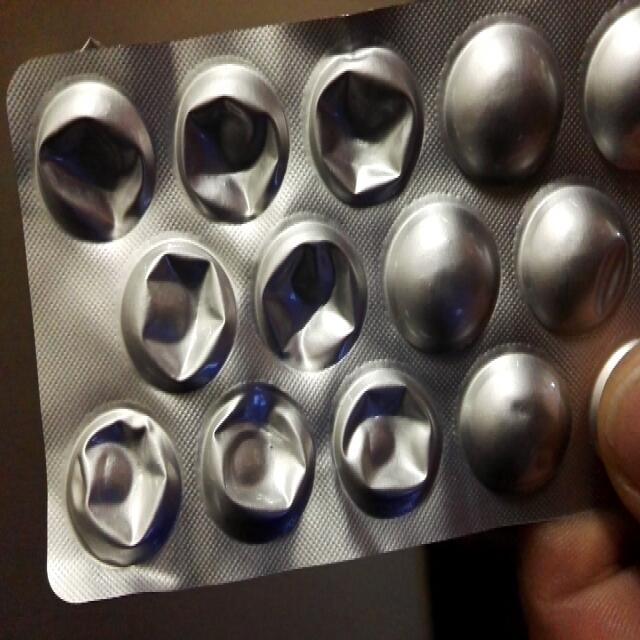Empty: (52, 396, 184, 576), (27, 80, 155, 240), (170, 50, 289, 220), (204, 375, 318, 551), (302, 34, 415, 204), (116, 243, 242, 389), (335, 368, 442, 530), (254, 228, 373, 368)
Pill: (434, 5, 561, 187), (452, 346, 580, 506), (381, 195, 500, 358), (518, 182, 633, 340), (581, 5, 640, 178)
